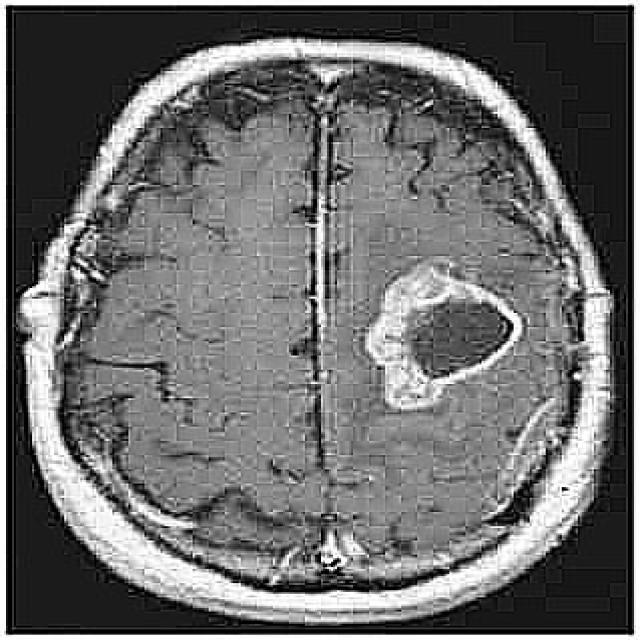Tumor-Cell: (347, 277, 507, 390)
